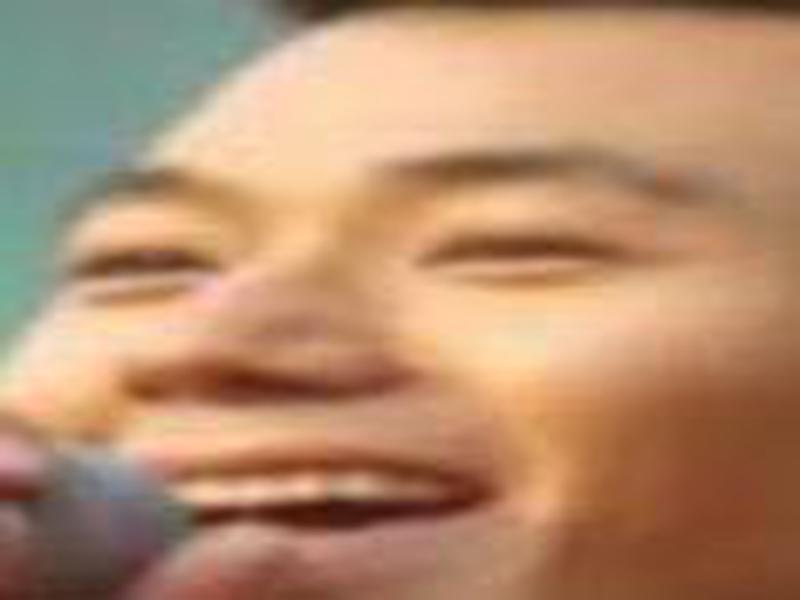without_mask: (16, 29, 795, 587)
